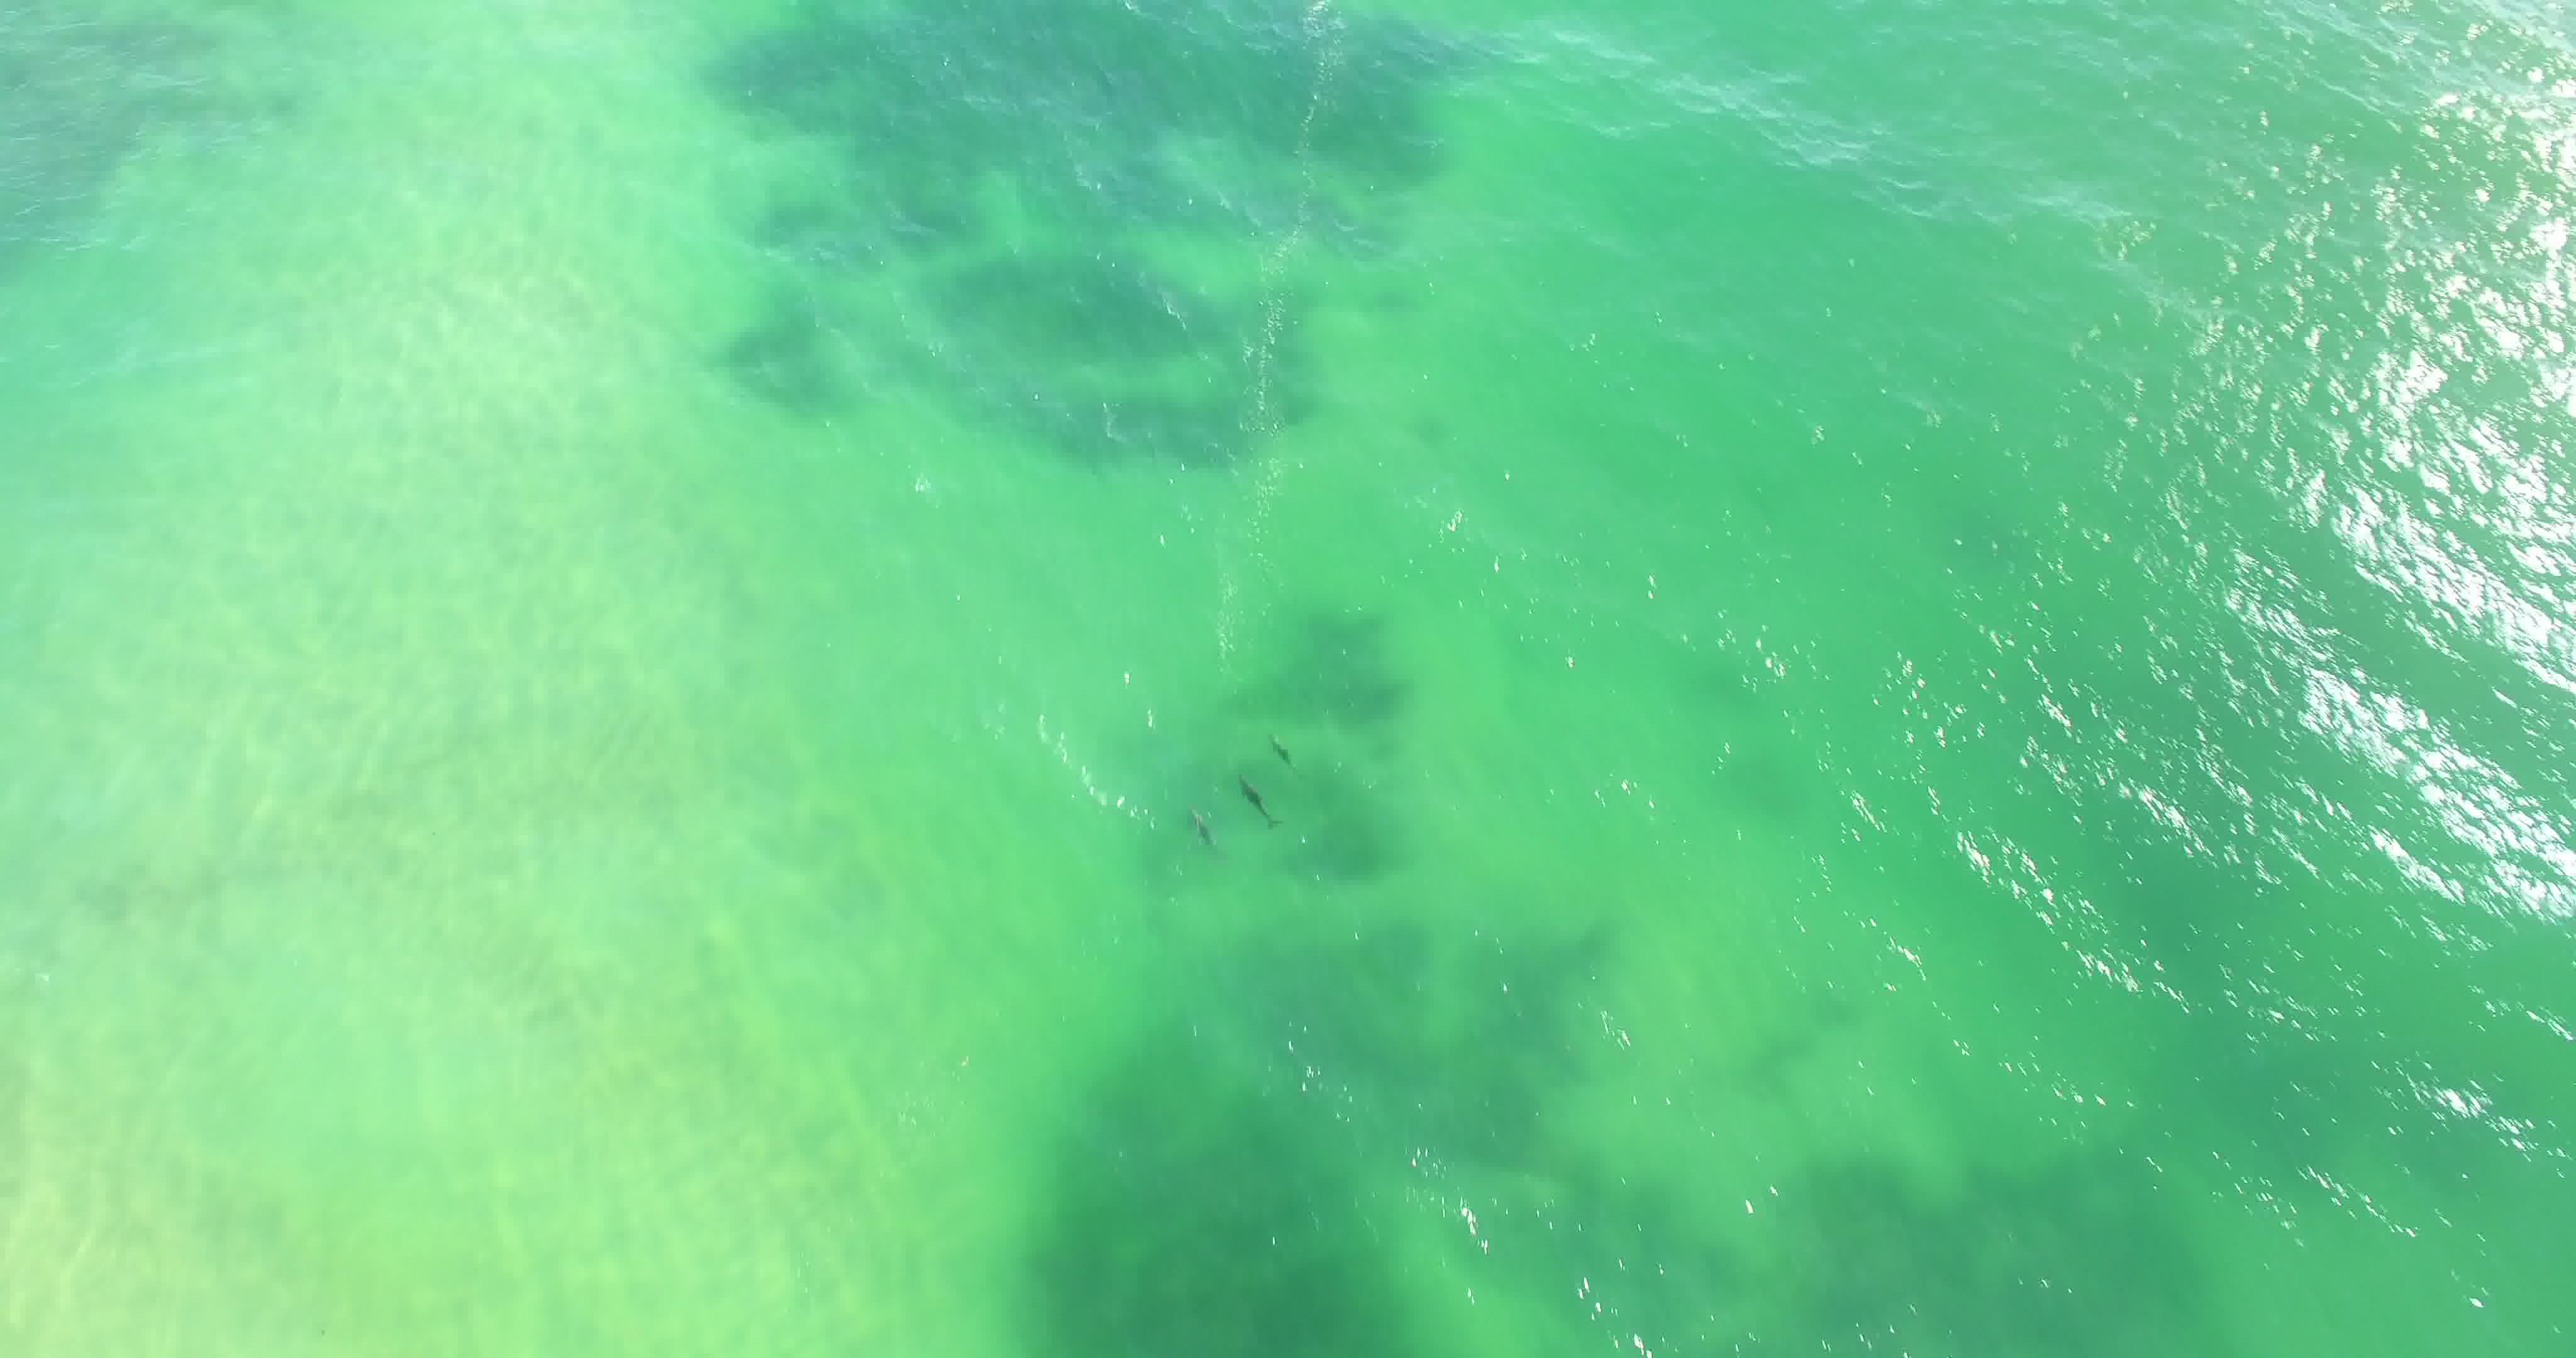dolphin: (1222, 763, 1286, 840), (1254, 717, 1310, 792), (1176, 799, 1225, 860)
